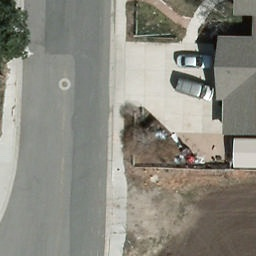car: (177, 55, 212, 68)
van: (175, 79, 215, 104)
